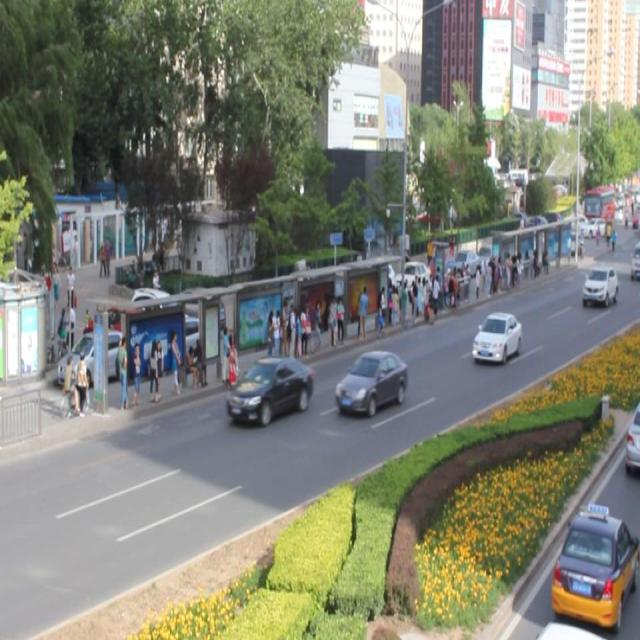car: (225, 352, 313, 425), (336, 348, 408, 413), (472, 308, 520, 364), (582, 263, 615, 304)
